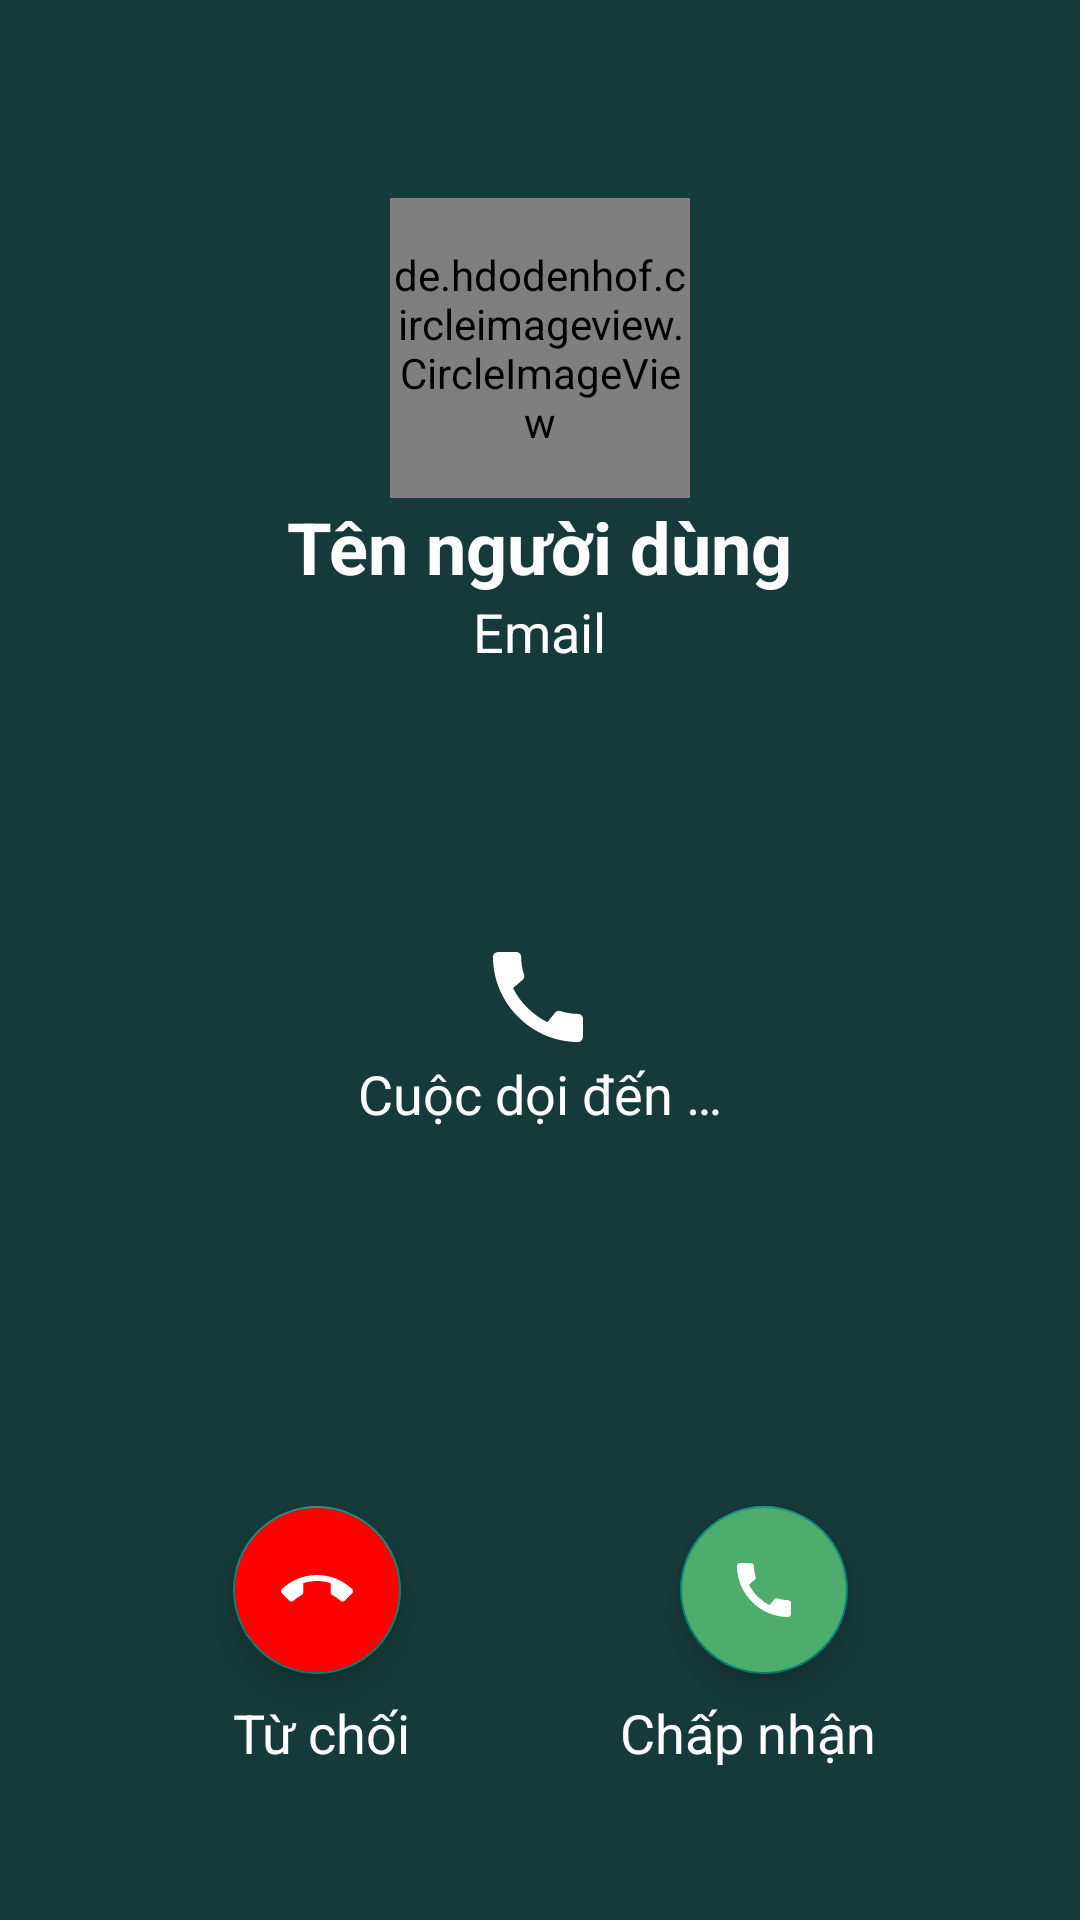

Where to tap for icons on this 1080×1920 app screen, as [x,y]:
call end: [317,1590]
